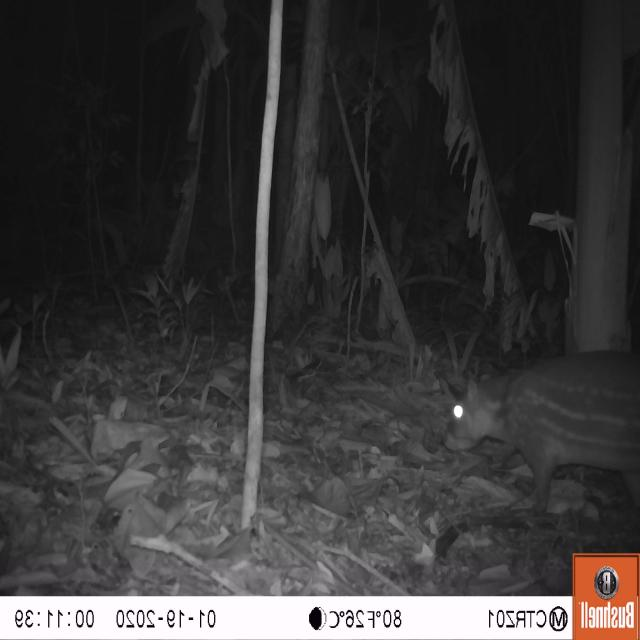Spotted Paca: (436, 334, 640, 526)
